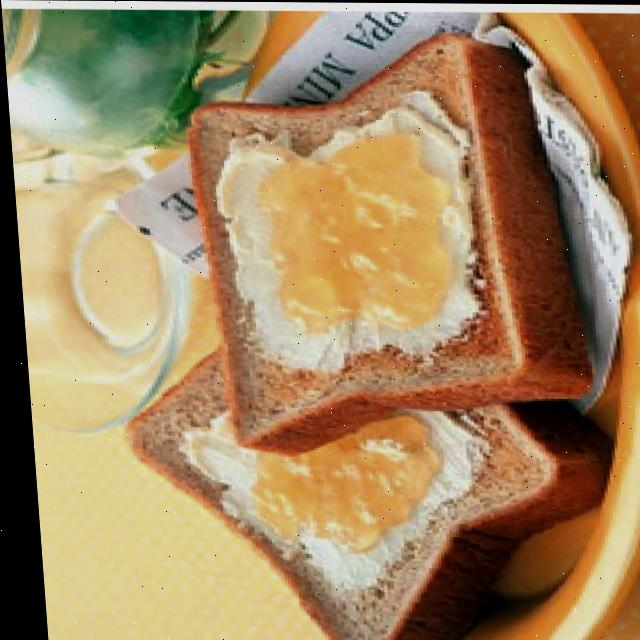面包点心: (112, 1, 618, 640)
